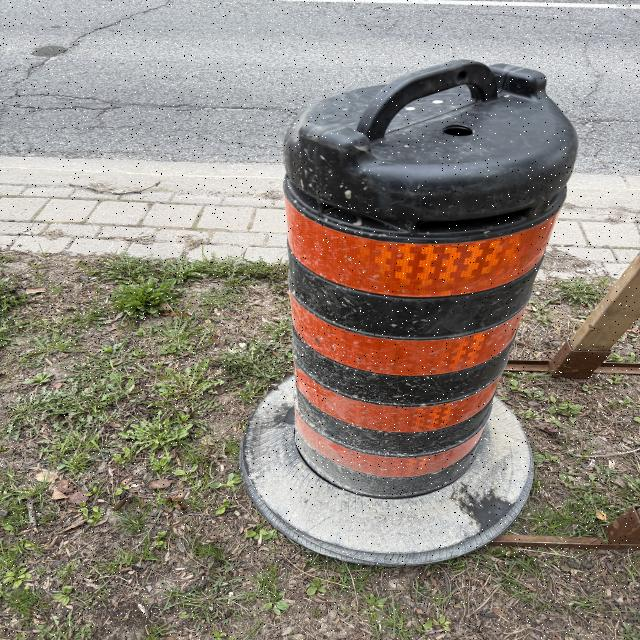Teraffic Barrel: (242, 61, 577, 564)
